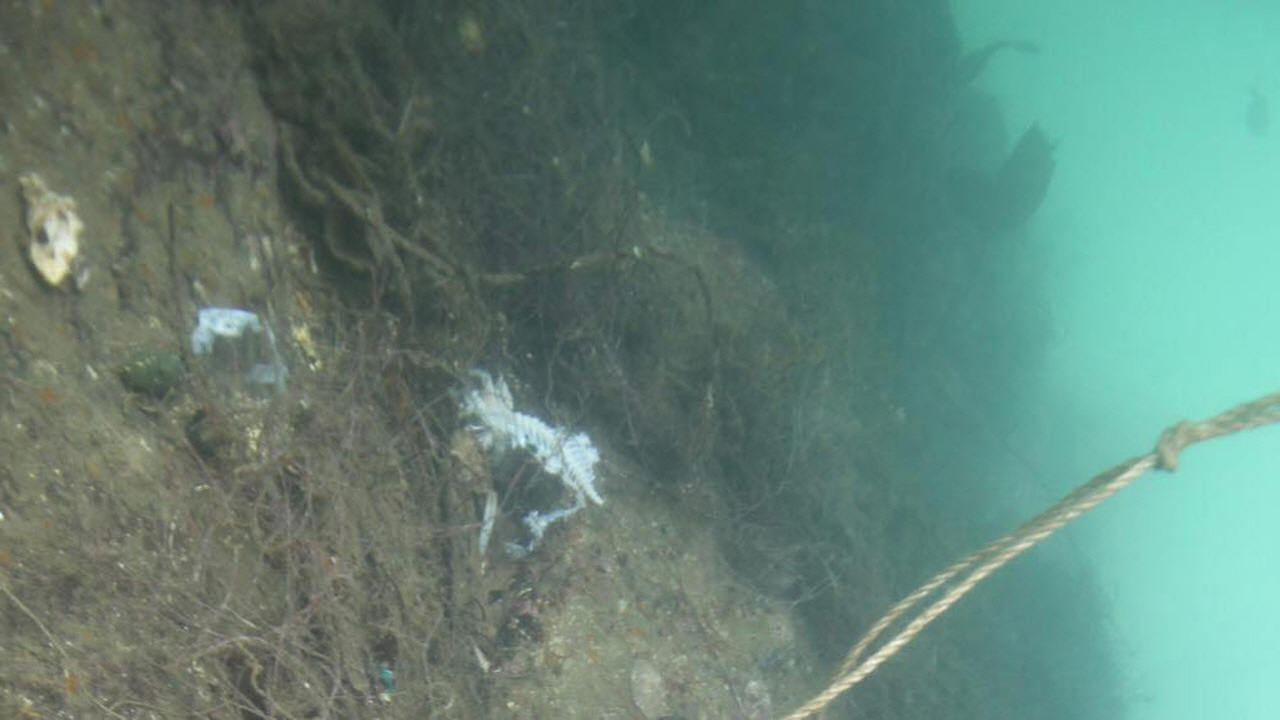bundle of ropes: (778, 393, 1280, 720)
